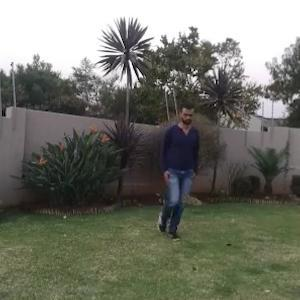follow: (159, 101, 196, 231)
